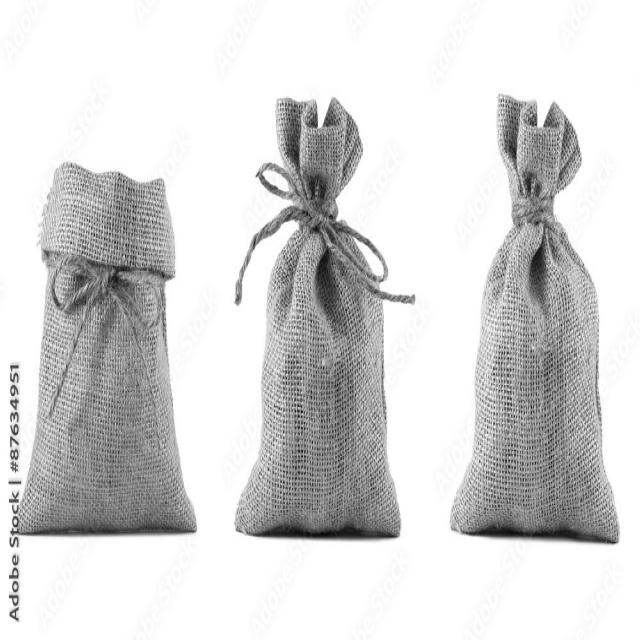sack: (233, 97, 414, 537), (449, 93, 619, 542), (17, 161, 195, 533)
